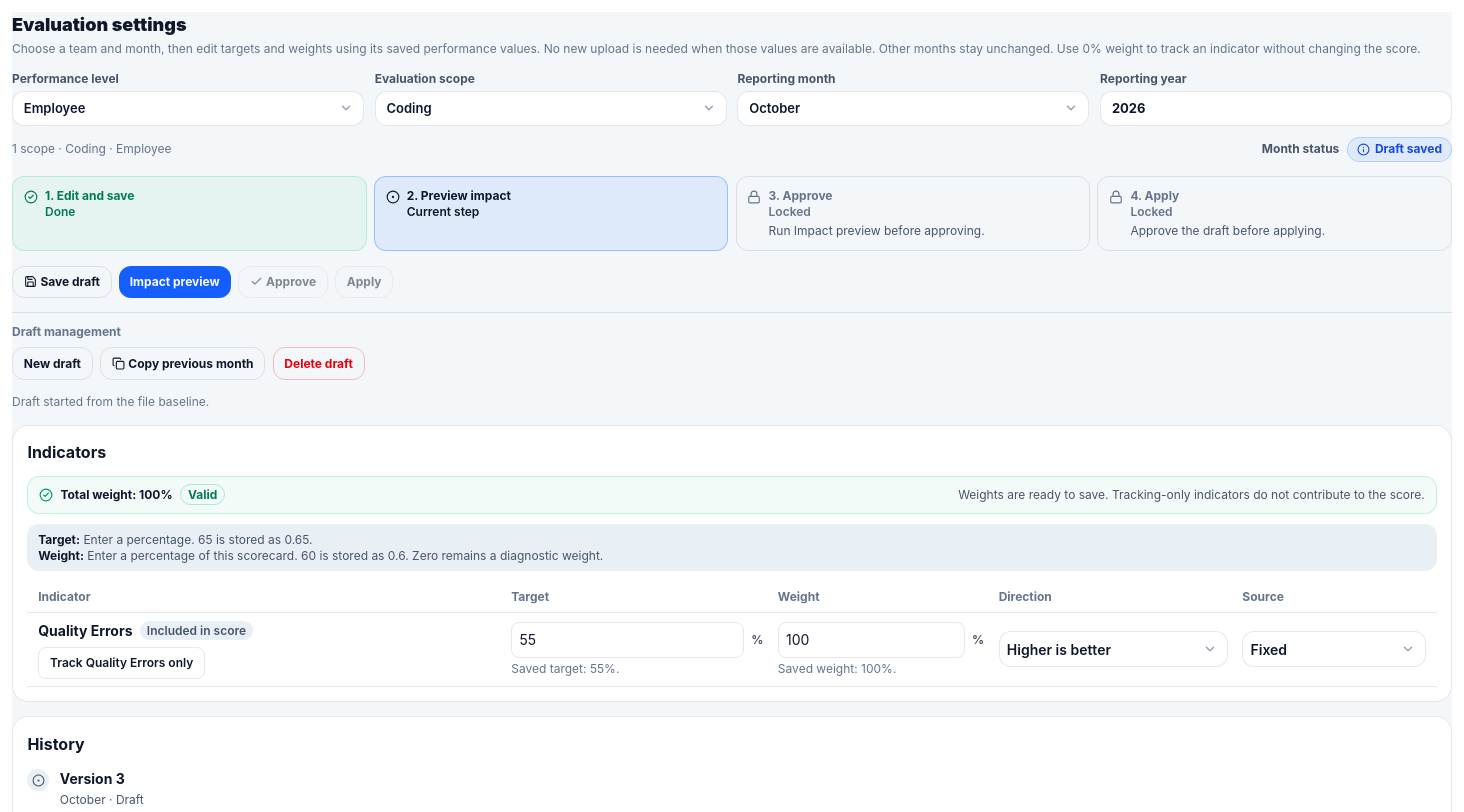
describes a zero-record validation without inventing an employee score
Click the button "Impact preview".
click(175, 282)  # box [119,266,230,298]
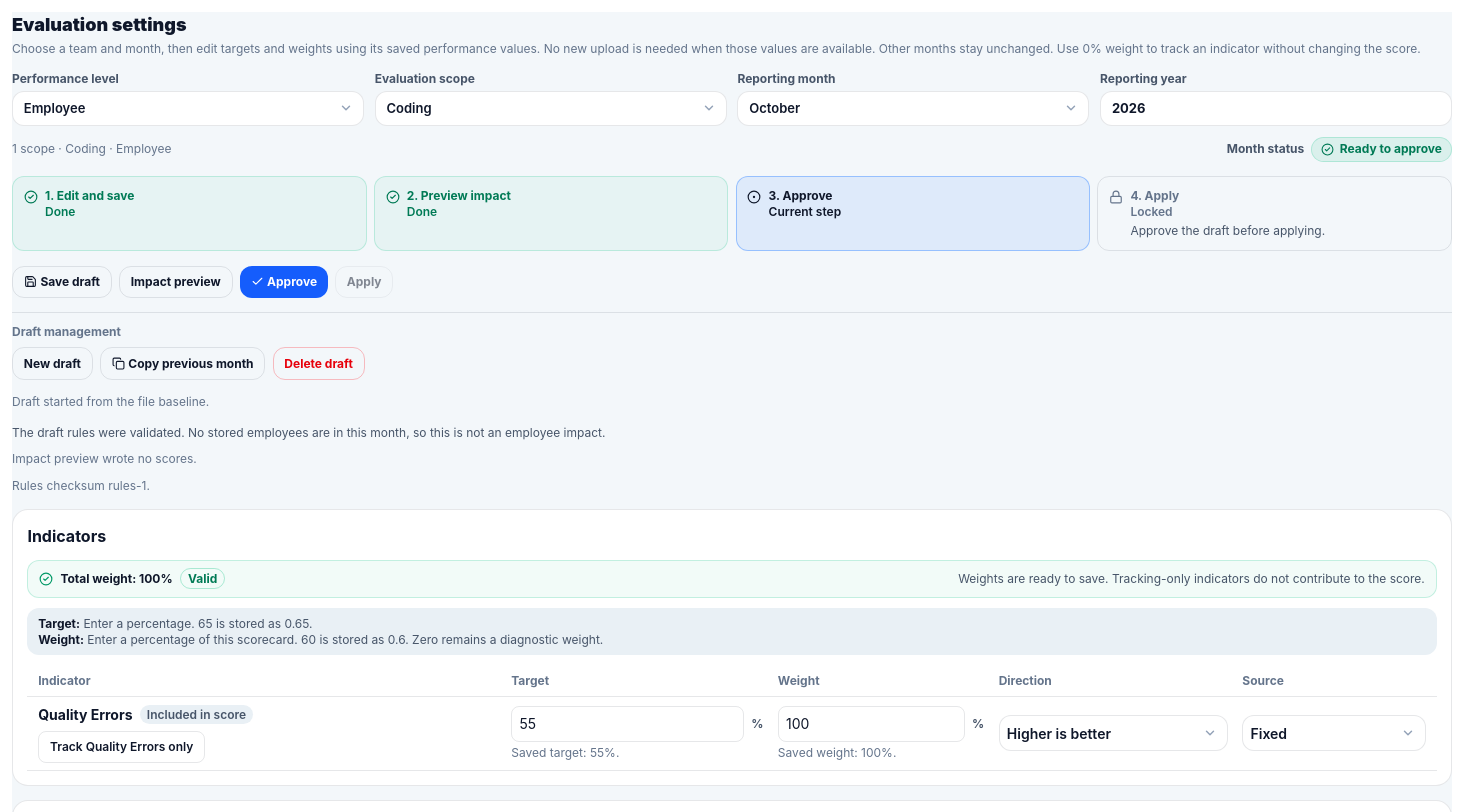
expect the text "not an employee impact" is shown: met, box [12,425,605,440]
expect the button "Approve" is enabled: met, box [240,266,328,298]
